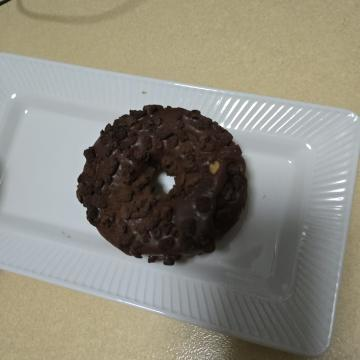doughnut: (95, 105, 271, 293)
